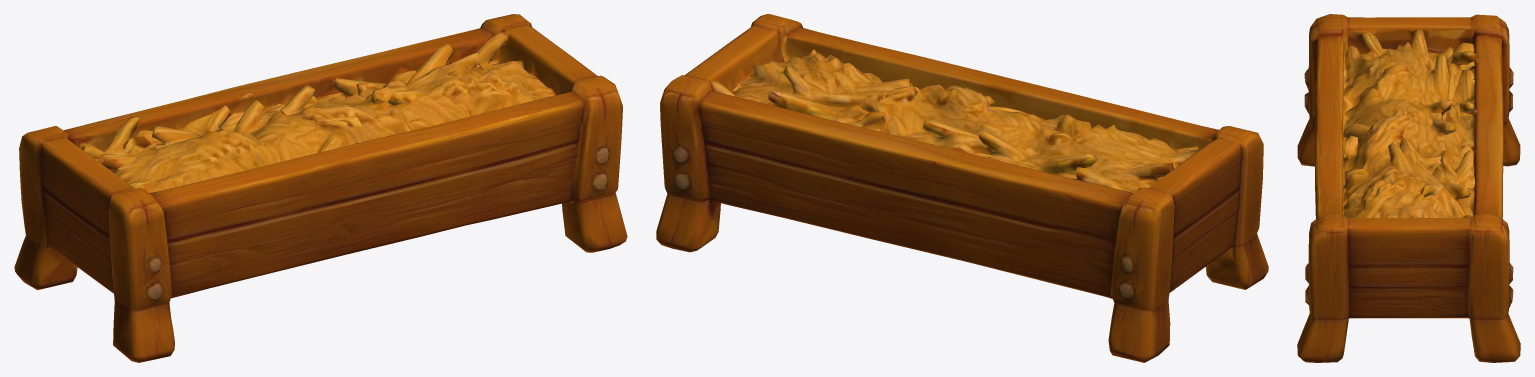
The model's file is trough.glb.
3 renders of one model, left to right at view 1: azimuth 30°, elevation 25°; view 2: azimuth 150°, elevation 25°; view 3: azimuth 270°, elevation 25°, orthographic. The views are drawn at different scales.
Visible parts, largest first — view 1: textured_mesh.obj; view 2: textured_mesh.obj; view 3: textured_mesh.obj.
Part boxes in pixels (bbox=[...]): textured_mesh.obj: bbox=[14, 14, 627, 362]; textured_mesh.obj: bbox=[656, 14, 1268, 362]; textured_mesh.obj: bbox=[1297, 14, 1520, 362].
Size of what is drawn, in the model's own units: 1.75 by 0.55 by 0.7664.
Materials: 1 (1 with a texture image).
